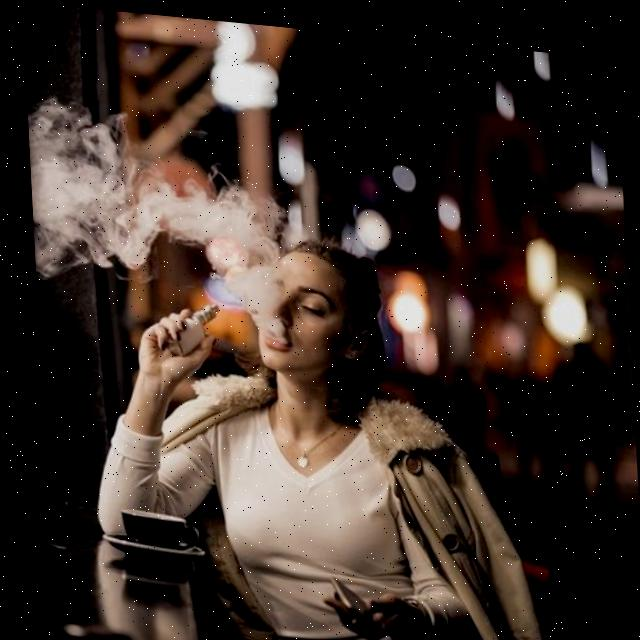vape: (160, 296, 217, 356)
